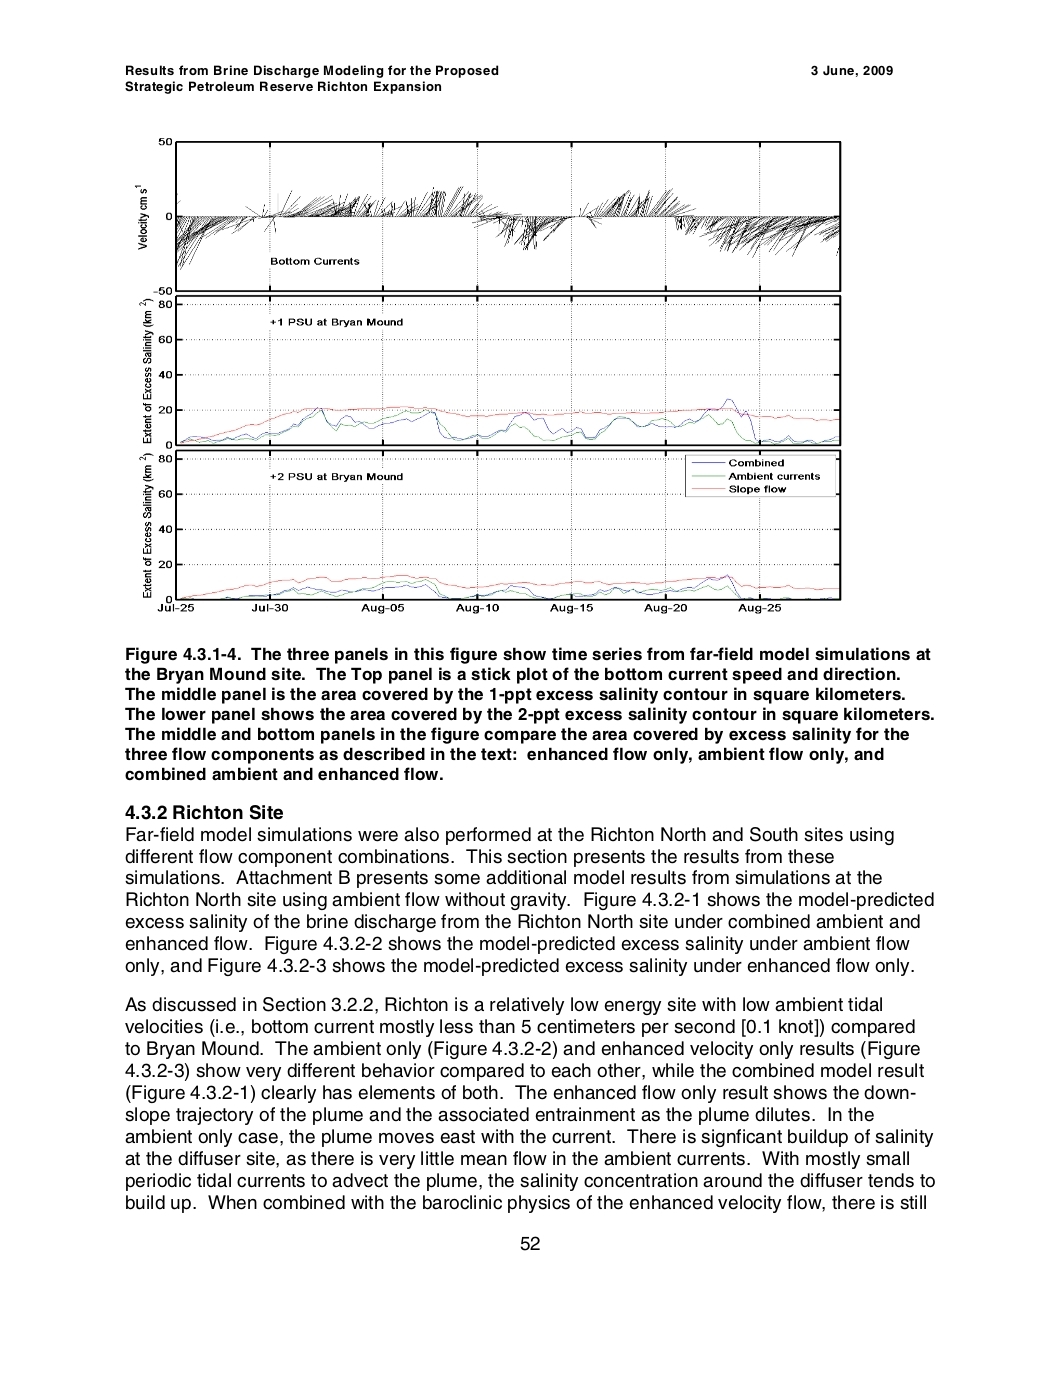figure: (135, 137, 841, 614)
